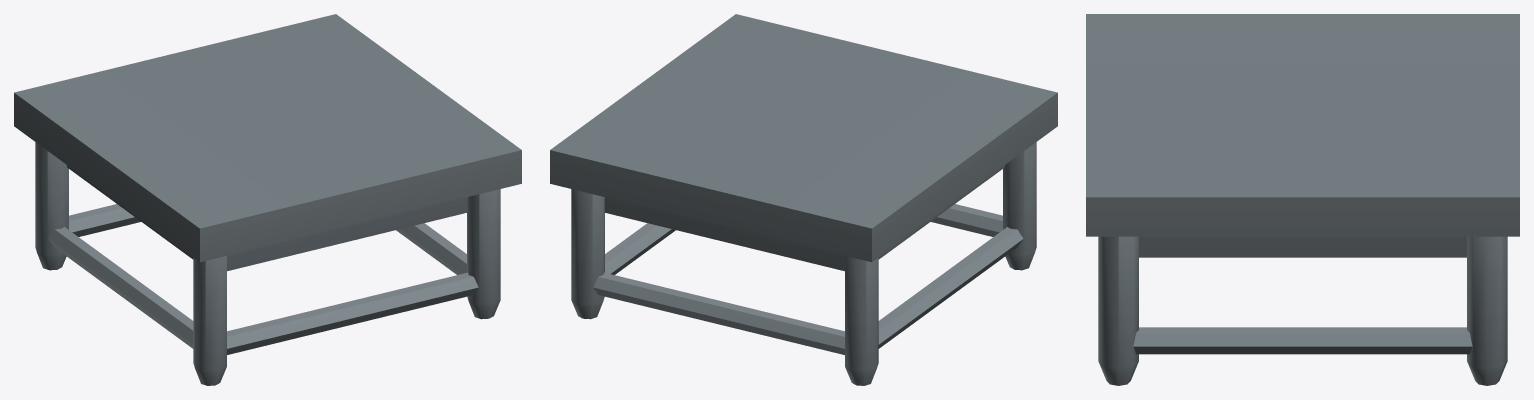
File: kaykit-table-kitchen.glb
The picture shows the model from 3 angles, left to right: view 1: azimuth 30°, elevation 25°; view 2: azimuth 150°, elevation 25°; view 3: azimuth 270°, elevation 25°; orthographic projection. The views are drawn at different scales.
Parts seen in each view (by area): view 1: kitchentable_A; view 2: kitchentable_A; view 3: kitchentable_A.
Boxes of the visible parts, x1,y1,x2,y2 form: kitchentable_A: (14,14,521,385); kitchentable_A: (550,14,1057,385); kitchentable_A: (1086,14,1519,385).
Bounding box in the file's own units: 2 × 1 × 2.
1 material, 1 textured.
